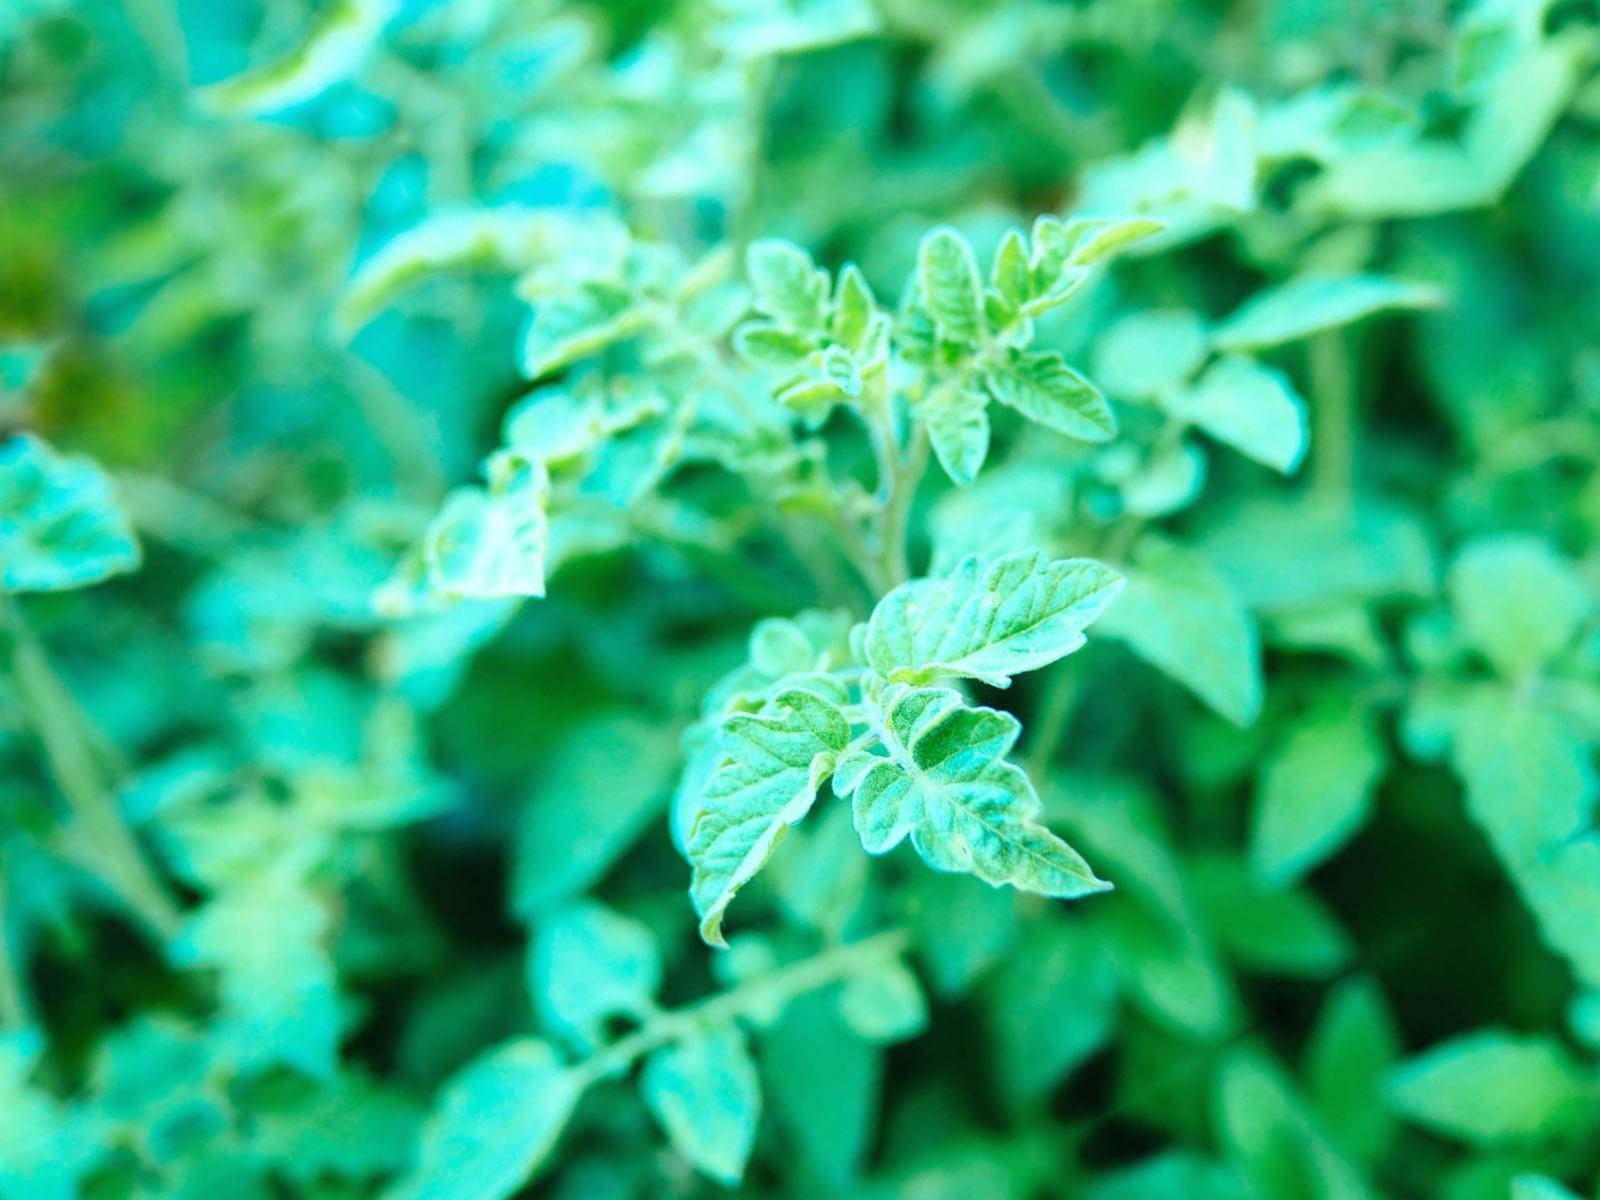Tomato leaf: (573, 615, 944, 966), (815, 616, 1153, 1000), (828, 485, 1149, 769)
